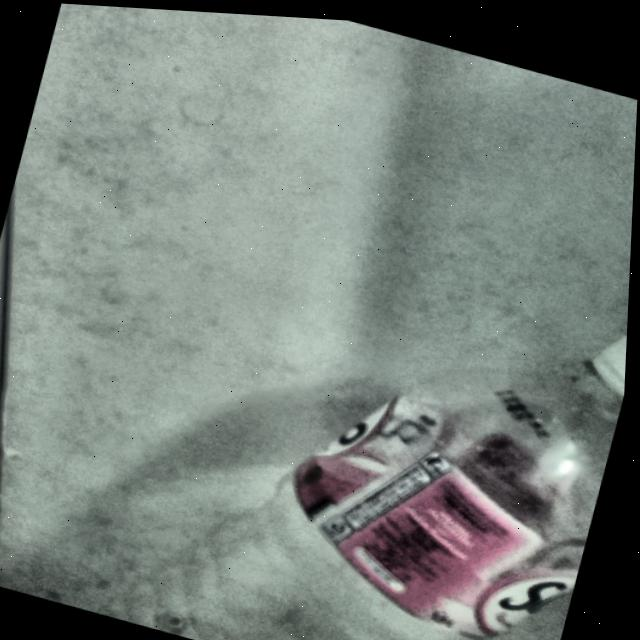plastic: (0, 134, 635, 640)
